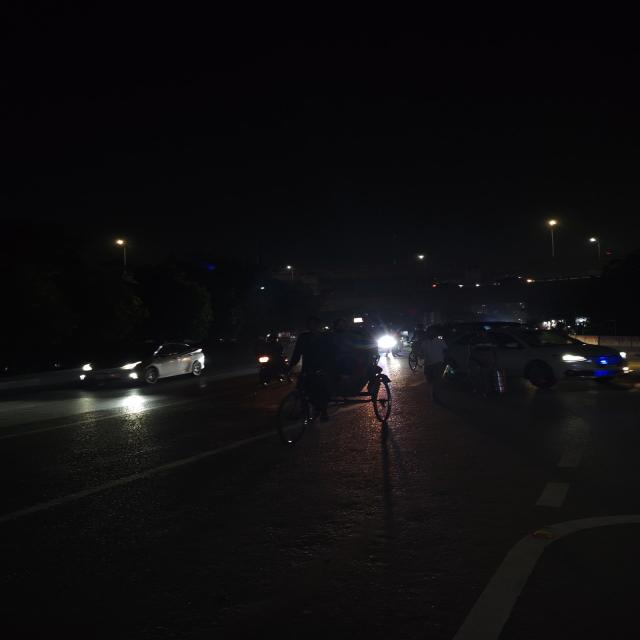car: (442, 321, 632, 395), (70, 340, 211, 393)
motorcycle: (251, 332, 290, 388)
pedestrian: (419, 334, 455, 386), (406, 324, 428, 372)
rickshaw: (271, 320, 398, 446)
